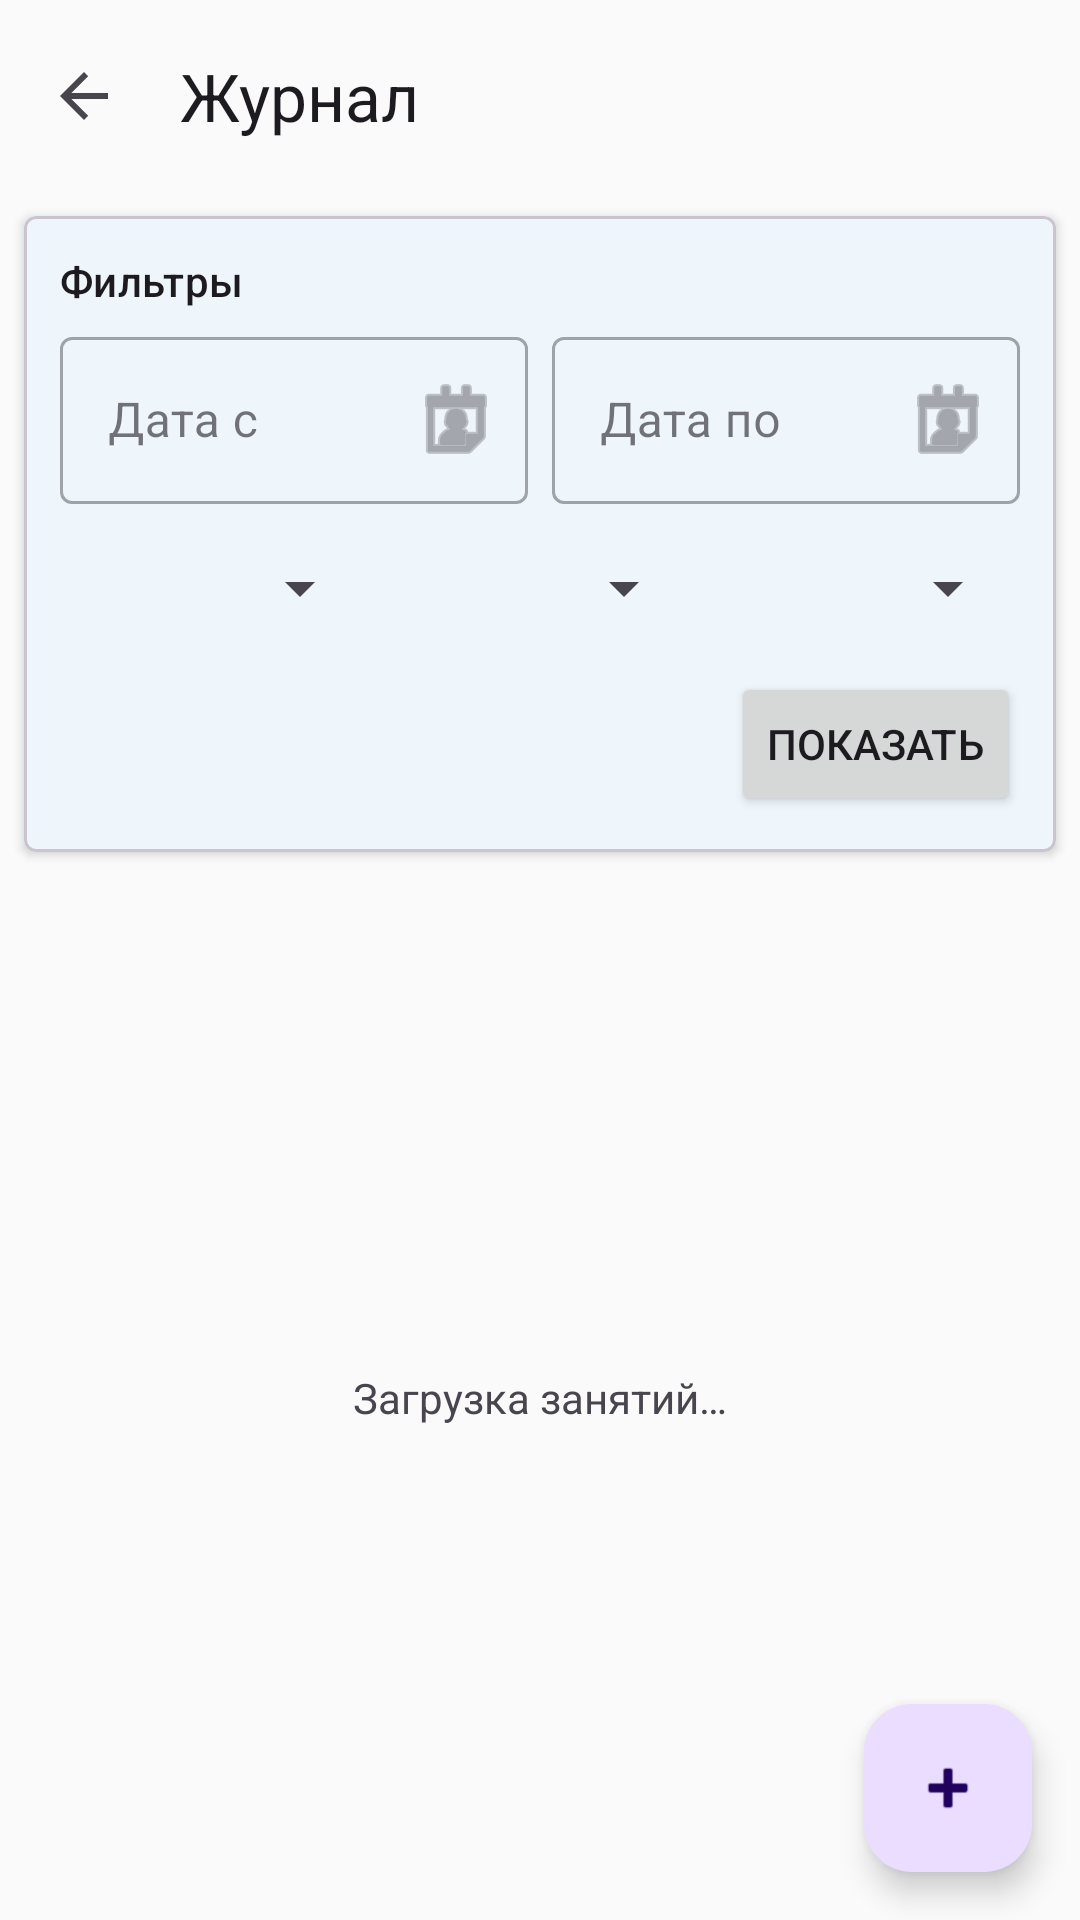

Named icons in this screenshot (1080px x 1920px) and their centers, (x=x, y=y):
Добавить запись: (x=948, y=1788)
